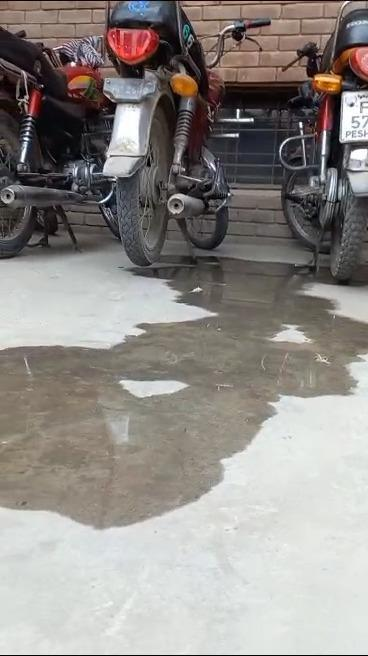water accumulation: (0, 259, 368, 530)
